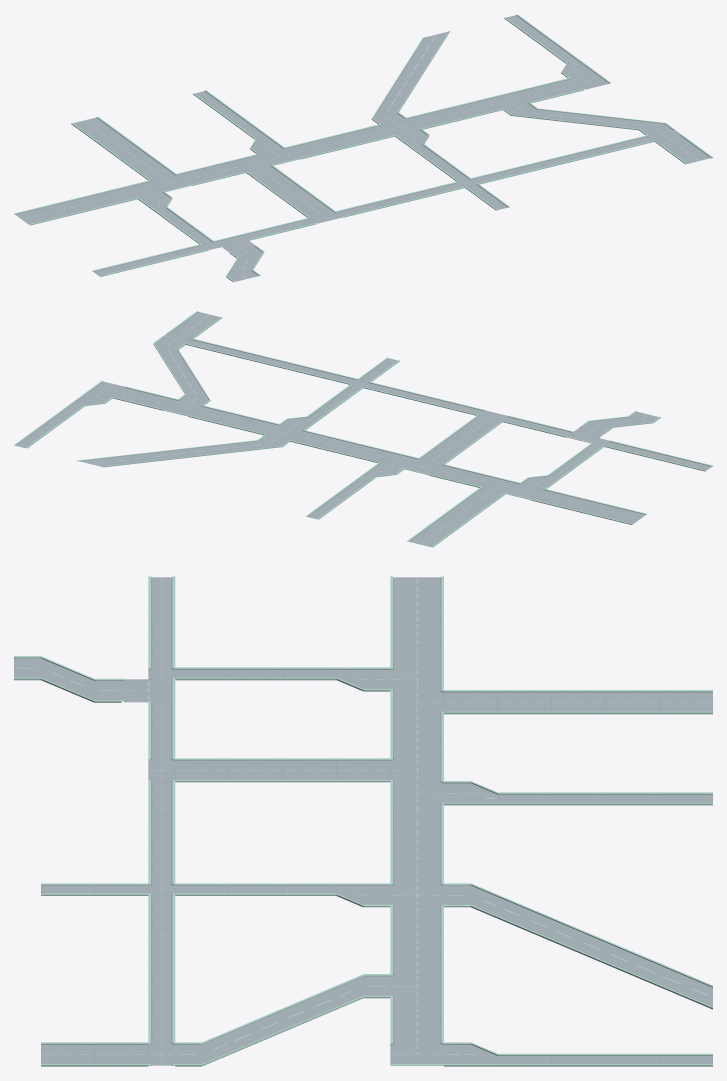
The model's file is road_net.fbx.
3 renders of one model, top to bottom at view 1: azimuth 30°, elevation 25°; view 2: azimuth 150°, elevation 25°; view 3: azimuth 270°, elevation 25°, orthographic. The views are drawn at different scales.
Visible parts, largest first — view 1: pPlane78, pPlane15, pPlane33, pPlane32, pPlane34, pPlane85, pPlane25, pPlane102, pPlane36, pPlane77, pPlane26, pPlane101 (+32 smaller); view 2: pPlane78, polySurface5, polySurface3, polySurface6, polySurface7, polySurface4, polySurface8, polySurface9, pPlane85, pPlane27, pPlane35, pPlane101 (+32 smaller); view 3: pPlane78, pPlane57, pPlane91, pPlane71, pPlane90, polySurface8, pPlane32, polySurface3, polySurface6, pPlane58, pPlane69, pPlane70 (+50 smaller).
Boxes of the visible parts, left/top/right/bottom form: pPlane78: left=285, top=137, right=340, bottom=159; pPlane15: left=532, top=111, right=601, bottom=122; pPlane33: left=575, top=115, right=643, bottom=127; pPlane32: left=503, top=103, right=558, bottom=118; pPlane34: left=617, top=120, right=673, bottom=135; pPlane85: left=203, top=160, right=245, bottom=179; pPlane25: left=461, top=98, right=503, bottom=116; pPlane102: left=41, top=200, right=83, bottom=218; pPlane36: left=542, top=78, right=584, bottom=96; pPlane77: left=325, top=131, right=367, bottom=149; pPlane26: left=407, top=111, right=448, bottom=129; pPlane101: left=68, top=193, right=110, bottom=212; pPlane78: left=340, top=442, right=392, bottom=462; polySurface5: left=198, top=442, right=262, bottom=453; polySurface3: left=158, top=447, right=222, bottom=458; polySurface6: left=118, top=451, right=182, bottom=462; polySurface7: left=77, top=456, right=142, bottom=467; polySurface4: left=238, top=435, right=289, bottom=449; polySurface8: left=581, top=418, right=633, bottom=432; polySurface9: left=608, top=411, right=660, bottom=425; pPlane85: left=429, top=464, right=469, bottom=481; pPlane27: left=214, top=411, right=253, bottom=428; pPlane35: left=138, top=393, right=177, bottom=410; pPlane101: left=556, top=495, right=595, bottom=512; pPlane78: left=390, top=803, right=443, bottom=838; pPlane57: left=94, top=1042, right=148, bottom=1066; pPlane91: left=605, top=690, right=659, bottom=714; pPlane71: left=336, top=758, right=390, bottom=782; pPlane90: left=551, top=690, right=605, bottom=714; polySurface8: left=67, top=667, right=121, bottom=702; pPlane32: left=336, top=974, right=390, bottom=1009; polySurface3: left=551, top=917, right=605, bottom=963; polySurface6: left=605, top=940, right=659, bottom=986; pPlane58: left=41, top=1042, right=94, bottom=1066; pPlane69: left=175, top=758, right=228, bottom=782; pPlane70: left=229, top=758, right=282, bottom=782.
Size of the model in its own units: 43 by 0.0611 by 26.
6 materials, 6 textured.
